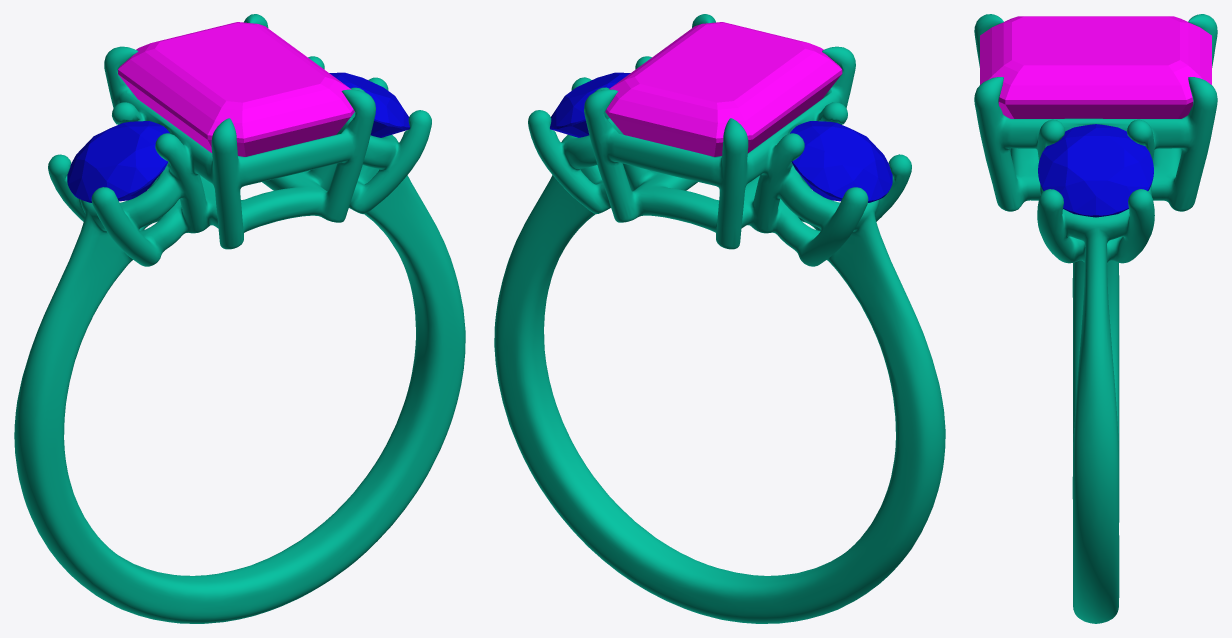
Rendered from BE1D6534_EM_200ct_RENDER.glb.
The picture shows the model from 3 angles, left to right: view 1: azimuth 30°, elevation 25°; view 2: azimuth 150°, elevation 25°; view 3: azimuth 270°, elevation 25°; orthographic projection.
Parts seen in each view (by area): view 1: Metal 01, CS_Diamond_Emerald, Diamond_Round_side, Diamond_Round_side.001; view 2: Metal 01, CS_Diamond_Emerald, Diamond_Round_side, Diamond_Round_side.001; view 3: Metal 01, CS_Diamond_Emerald, Diamond_Round_side.001.
Boxes of the visible parts, x1=… form: Metal 01: x1=14, y1=14, x2=465, y2=623; CS_Diamond_Emerald: x1=118, y1=22, x2=354, y2=156; Diamond_Round_side: x1=67, y1=121, x2=169, y2=202; Diamond_Round_side.001: x1=329, y1=72, x2=410, y2=137; Metal 01: x1=494, y1=14, x2=945, y2=623; CS_Diamond_Emerald: x1=605, y1=22, x2=842, y2=156; Diamond_Round_side: x1=790, y1=121, x2=892, y2=202; Diamond_Round_side.001: x1=550, y1=72, x2=630, y2=137; Metal 01: x1=974, y1=14, x2=1217, y2=623; CS_Diamond_Emerald: x1=980, y1=16, x2=1211, y2=118; Diamond_Round_side.001: x1=1038, y1=124, x2=1153, y2=217.
Bounding box in the file's own units: 20.07 × 23.92 × 9.45.
